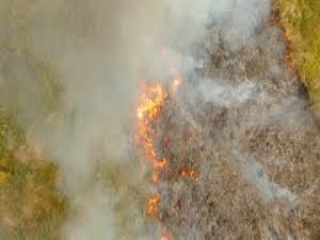fire: (126, 75, 187, 215)
